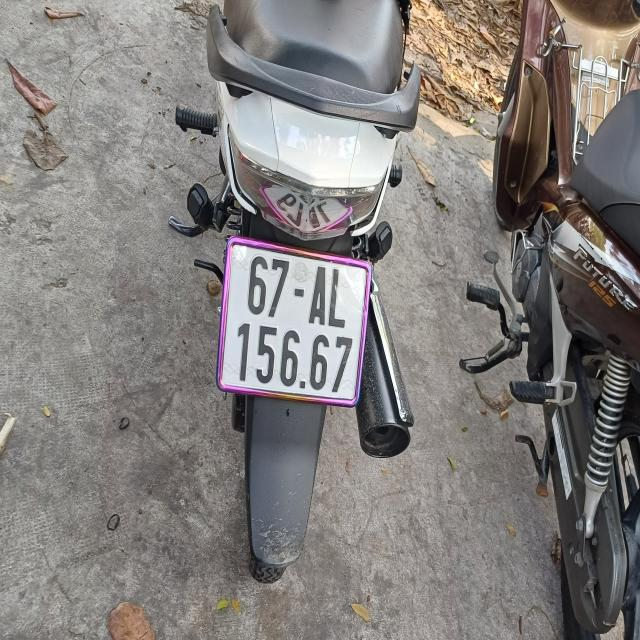1: (233, 322, 251, 382)
5: (256, 323, 278, 385)
6: (246, 254, 268, 316), (308, 332, 331, 391), (279, 328, 301, 387)
7: (269, 255, 289, 320), (334, 336, 354, 392)
A: (308, 265, 326, 326)
L: (330, 266, 346, 330)
